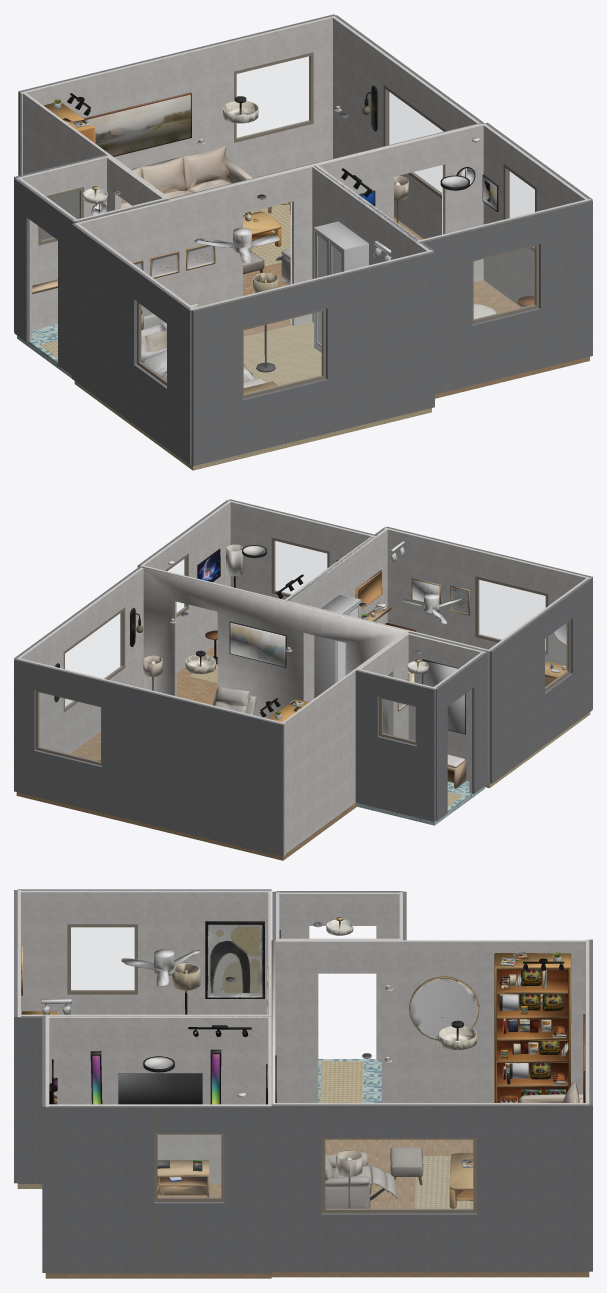
The model's file is scene_named.glb.
3 views of the same model, one above another, from view 1: azimuth 30°, elevation 25°; view 2: azimuth 150°, elevation 25°; view 3: azimuth 270°, elevation 25° (orthographic). The views are drawn at different scales.
Visible parts, largest first — view 1: south_wall_exterior_bedroom/south_wall_exterior_bedroom/geom, south_wall_exterior_gaming_room/south_wall_exterior_gaming_r, north_wall_living_room/north_wall_living_room/geometry_0, west_wall_exterior_bedroom/west_wall_exterior_bedroom/geomet, north_wall_bedroom/north_wall_bedroom/geometry_0, east_wall_living_room/east_wall_living_room/geometry_0, north_wall_gaming_room/north_wall_gaming_room/geometry_0, east_wall_gaming_room/east_wall_gaming_room/geometry_0, west_wall_exterior_hallway/west_wall_exterior_hallway/geomet, floor_bedroom, window_8_bedroom/window_8_bedroom/glass, west_wall_living_room/west_wall_living_room/geometry_0 (+32 smaller); view 2: north_wall_exterior_living_room/north_wall_exterior_living_r, south_wall_living_room/south_wall_living_room/geometry_0, west_wall_exterior_bedroom/west_wall_exterior_bedroom/geomet, south_wall_bedroom/south_wall_bedroom/geometry_0, west_wall_living_room/west_wall_living_room/geometry_0, north_wall_exterior_hallway/north_wall_exterior_hallway/geom, east_wall_living_room/east_wall_living_room/geometry_0, south_wall_gaming_room/south_wall_gaming_room/geometry_0, east_wall_gaming_room/east_wall_gaming_room/geometry_0, west_wall_exterior_hallway/west_wall_exterior_hallway/geomet, east_wall_bedroom/east_wall_bedroom/geometry_0, window_2_living_room/window_2_living_room/glass (+31 smaller); view 3: east_wall_exterior_living_room/east_wall_exterior_living_roo, east_wall_exterior_gaming_room/east_wall_exterior_gaming_roo, west_wall_living_room/west_wall_living_room/geometry_0, west_wall_bedroom/west_wall_bedroom/geometry_0, west_wall_gaming_room/west_wall_gaming_room/geometry_0, window_1_living_room/window_1_living_room/glass, bookshelf_0, floor_living_room, west_wall_hallway/west_wall_hallway/geometry_0, art_print_0, east_wall_exterior_bedroom/east_wall_exterior_bedroom/geomet, window_9_bedroom/window_9_bedroom/glass (+28 smaller).
Part boxes in pixels (x1,y1,x2,y2): south_wall_exterior_bedroom/south_wall_exterior_bedroom/geom: (191, 251, 434, 466); south_wall_exterior_gaming_room/south_wall_exterior_gaming_r: (418, 200, 592, 394); north_wall_living_room/north_wall_living_room/geometry_0: (20, 16, 332, 177); west_wall_exterior_bedroom/west_wall_exterior_bedroom/geomet: (72, 223, 191, 465); north_wall_bedroom/north_wall_bedroom/geometry_0: (75, 165, 314, 325); east_wall_living_room/east_wall_living_room/geometry_0: (331, 16, 479, 238); north_wall_gaming_room/north_wall_gaming_room/geometry_0: (314, 123, 485, 282); east_wall_gaming_room/east_wall_gaming_room/geometry_0: (483, 124, 587, 307); west_wall_exterior_hallway/west_wall_exterior_hallway/geomet: (14, 178, 75, 375); floor_bedroom: (74, 322, 431, 470); window_8_bedroom/window_8_bedroom/glass: (244, 311, 322, 394); west_wall_living_room/west_wall_living_room/geometry_0: (21, 91, 169, 240); north_wall_exterior_living_room/north_wall_exterior_living_r: (14, 658, 284, 856); south_wall_living_room/south_wall_living_room/geometry_0: (141, 566, 408, 734); west_wall_exterior_bedroom/west_wall_exterior_bedroom/geomet: (489, 578, 592, 783); south_wall_bedroom/south_wall_bedroom/geometry_0: (384, 527, 591, 665); west_wall_living_room/west_wall_living_room/geometry_0: (281, 632, 407, 853); north_wall_exterior_hallway/north_wall_exterior_hallway/geom: (355, 670, 435, 821); east_wall_living_room/east_wall_living_room/geometry_0: (17, 567, 143, 753); south_wall_gaming_room/south_wall_gaming_room/geometry_0: (227, 500, 375, 599); east_wall_gaming_room/east_wall_gaming_room/geometry_0: (142, 501, 230, 672); west_wall_exterior_hallway/west_wall_exterior_hallway/geomet: (435, 652, 487, 820); east_wall_bedroom/east_wall_bedroom/geometry_0: (290, 529, 387, 702); window_2_living_room/window_2_living_room/glass: (39, 692, 100, 761); east_wall_exterior_living_room/east_wall_exterior_living_roo: (271, 1104, 589, 1272); east_wall_exterior_gaming_room/east_wall_exterior_gaming_roo: (45, 1106, 271, 1273); west_wall_living_room/west_wall_living_room/geometry_0: (275, 940, 589, 1102); west_wall_bedroom/west_wall_bedroom/geometry_0: (21, 890, 268, 1014); west_wall_gaming_room/west_wall_gaming_room/geometry_0: (49, 1016, 268, 1184); window_1_living_room/window_1_living_room/glass: (325, 1140, 472, 1208); bookshelf_0: (494, 953, 571, 1102); floor_living_room: (271, 1139, 589, 1277); west_wall_hallway/west_wall_hallway/geometry_0: (279, 892, 402, 1060); art_print_0: (205, 921, 264, 998); east_wall_exterior_bedroom/east_wall_exterior_bedroom/geomet: (17, 1016, 271, 1183); window_9_bedroom/window_9_bedroom/glass: (71, 927, 134, 990).
Size of the model in its own units: 7.31 by 2.7 by 8.2.
Materials: 124 (114 with a texture image).
